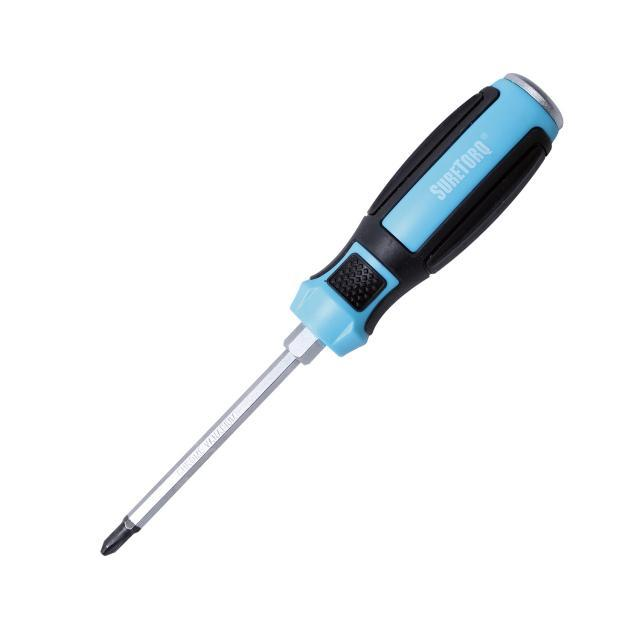screwdriver: (92, 68, 567, 564)
